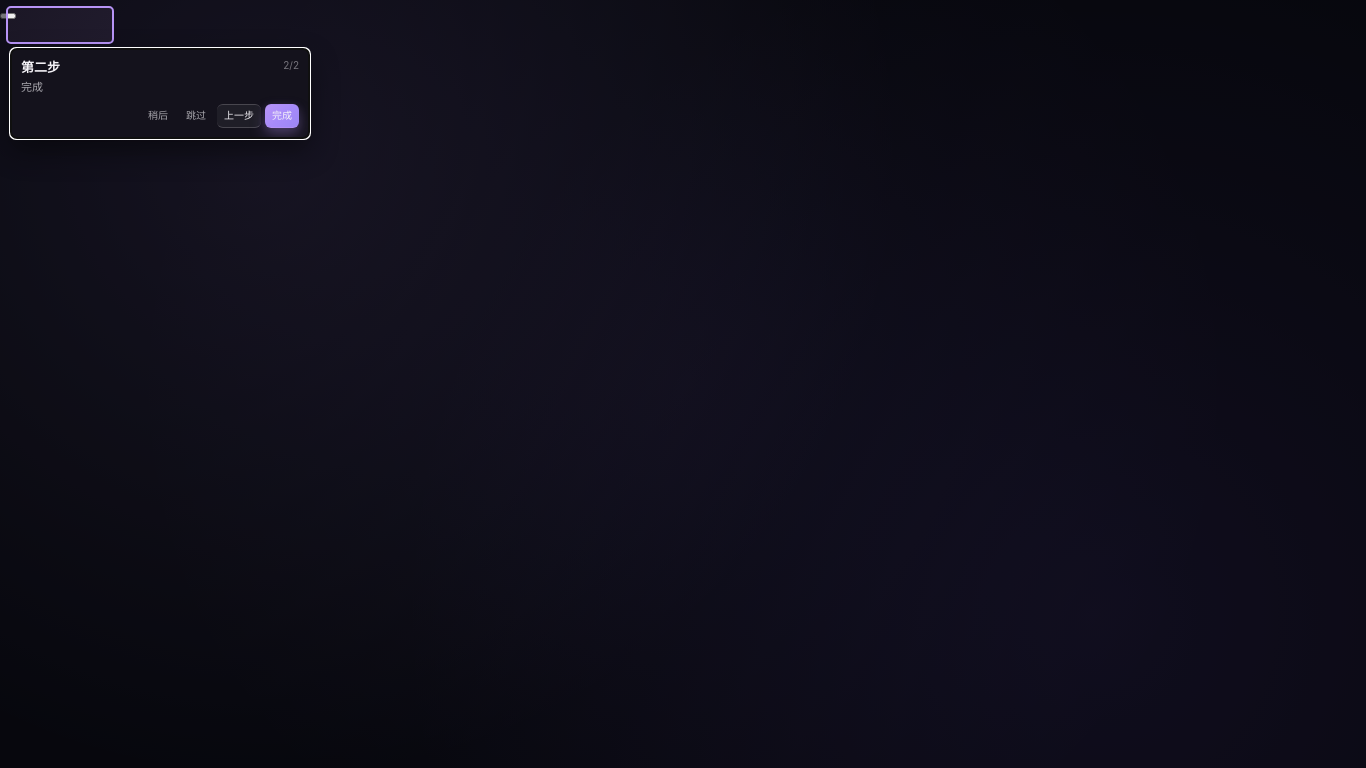
Test case: OnboardingGuide › restores focus after closing with 完成
Click the button "完成". click: (282, 116)
box: top-left (265, 104), bottom-right (299, 128)
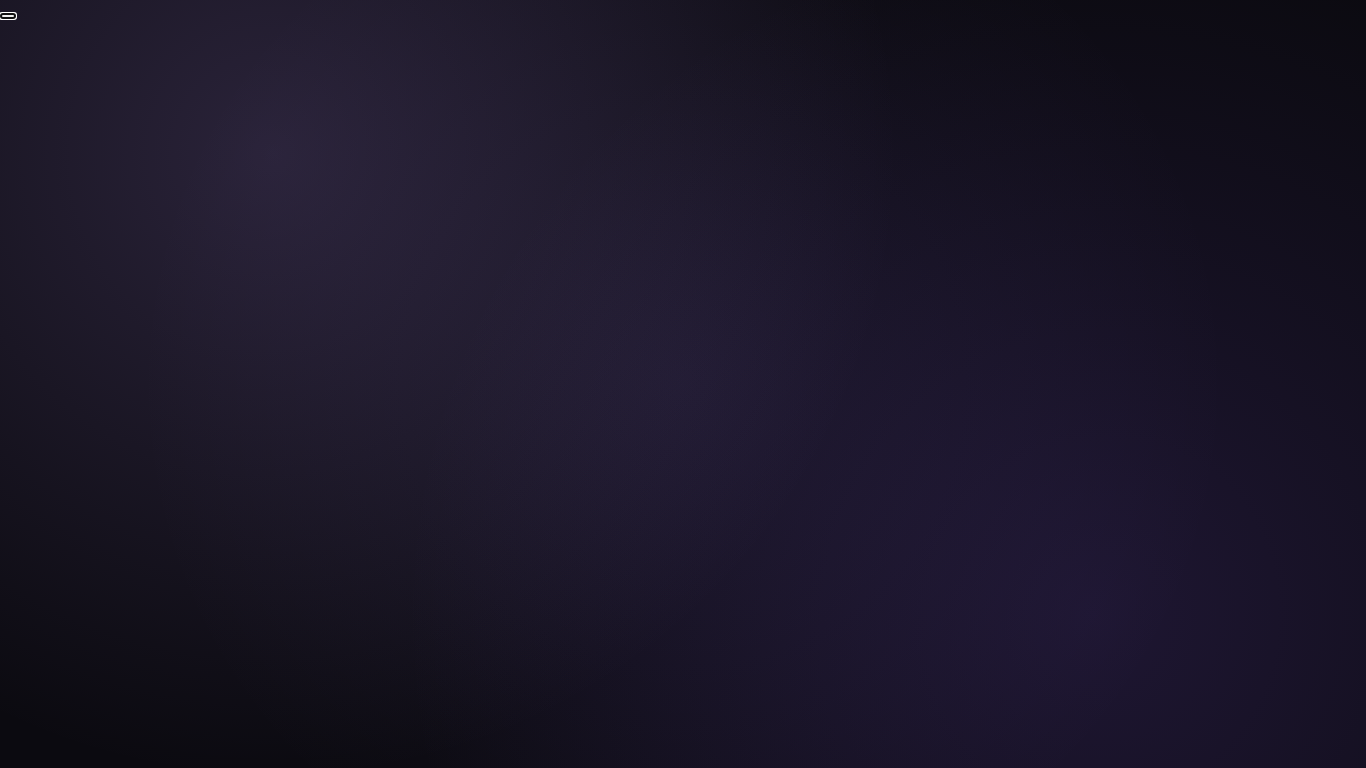
Expected: the dialog with class "onboarding-guide" is gone
